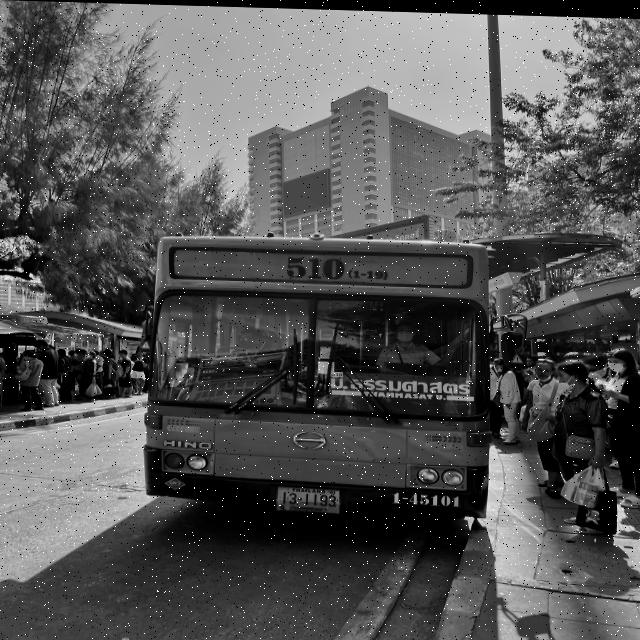BMTA-bus: (142, 232, 493, 520)
Bus-Line-Number: (279, 250, 390, 280)
Destination-Sign-Normal: (330, 371, 478, 415)
